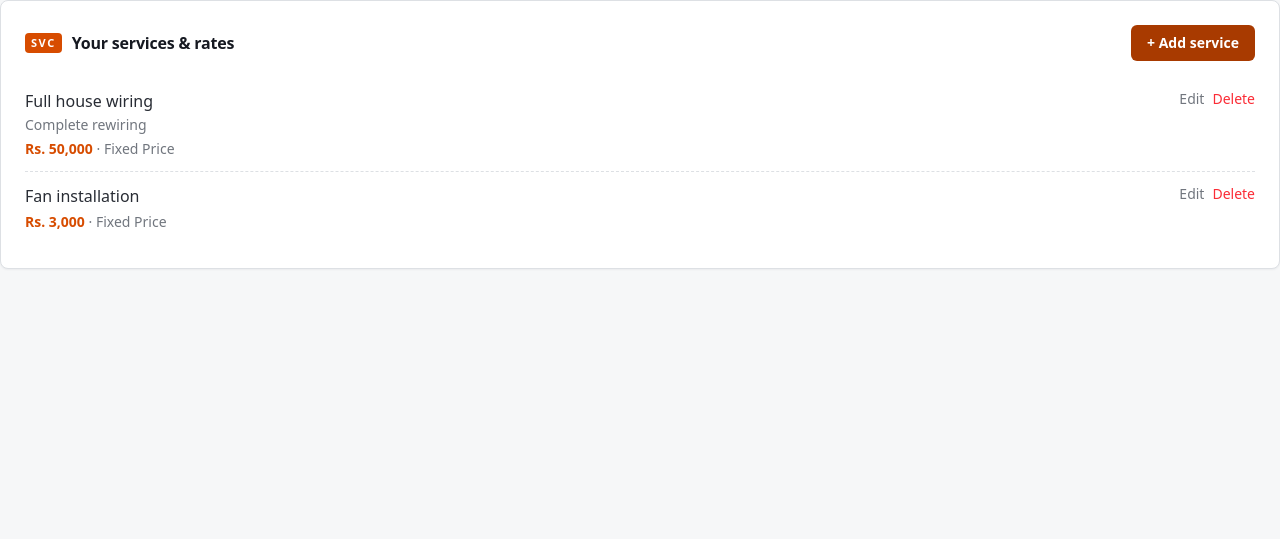
Test case: ServicesManager › POSTs a new service and appends it to the list on success
Step 1. Click the button "+ Add service" → (1193, 43), box 1131,25 -> 1255,61
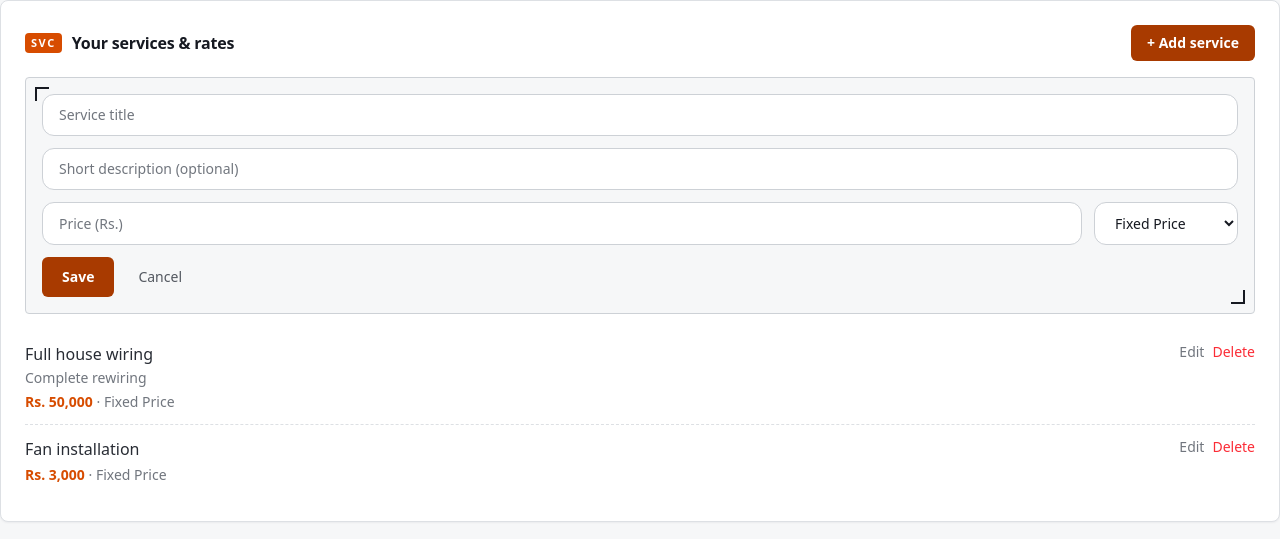
Step 2. Type "Socket repair" into the field labelled "Service title" → (640, 115), box 42,94 -> 1238,136
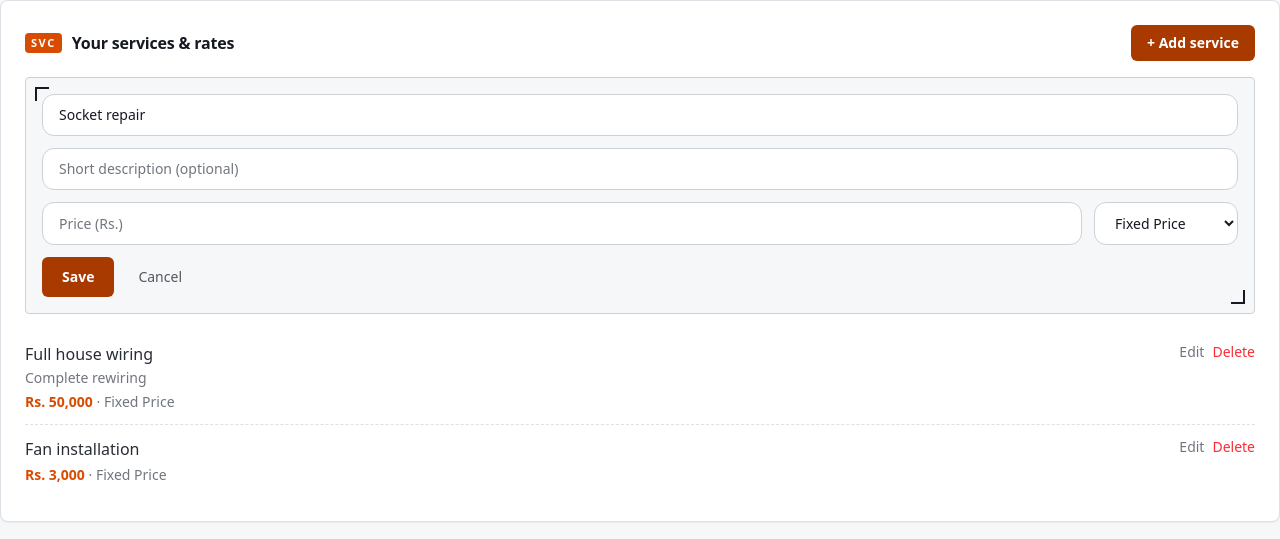
Step 3. Type "1500" into the number field labelled "Price (Rs.)" → (562, 224), box 42,202 -> 1082,245
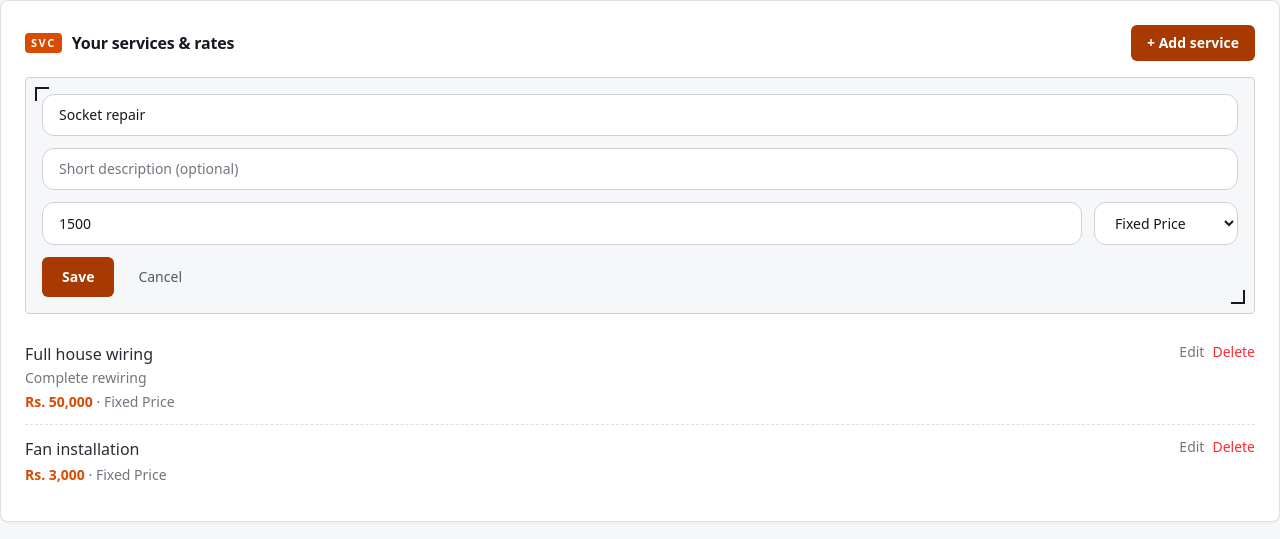
Step 4. Click the button "Save" → (78, 277), box 42,257 -> 114,297
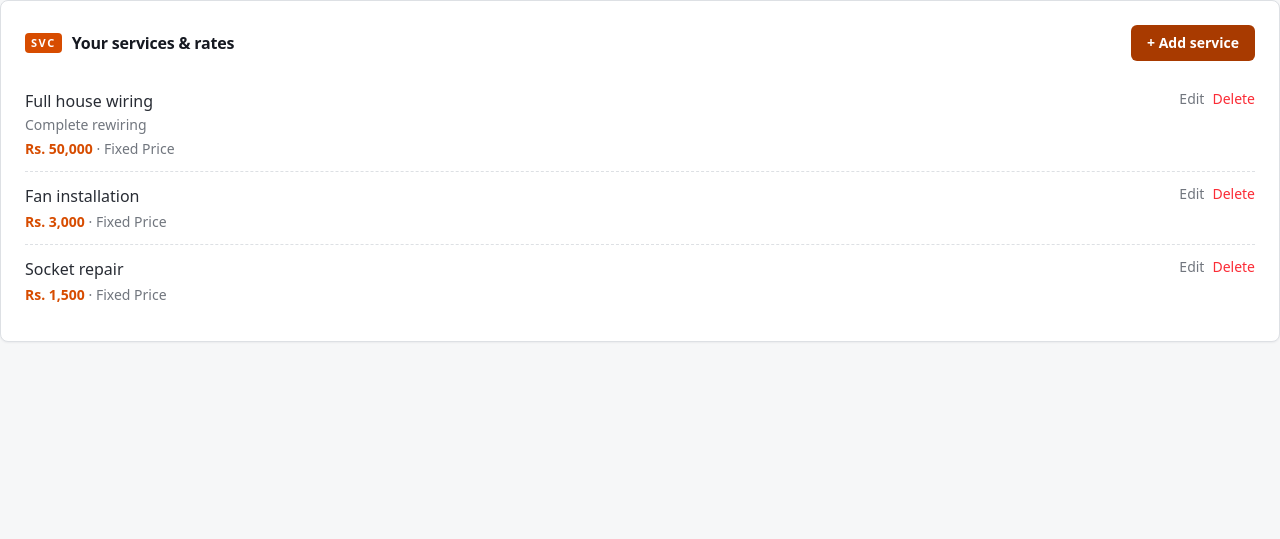
Now the text "Socket repair" is shown, box 25,258 -> 124,280
